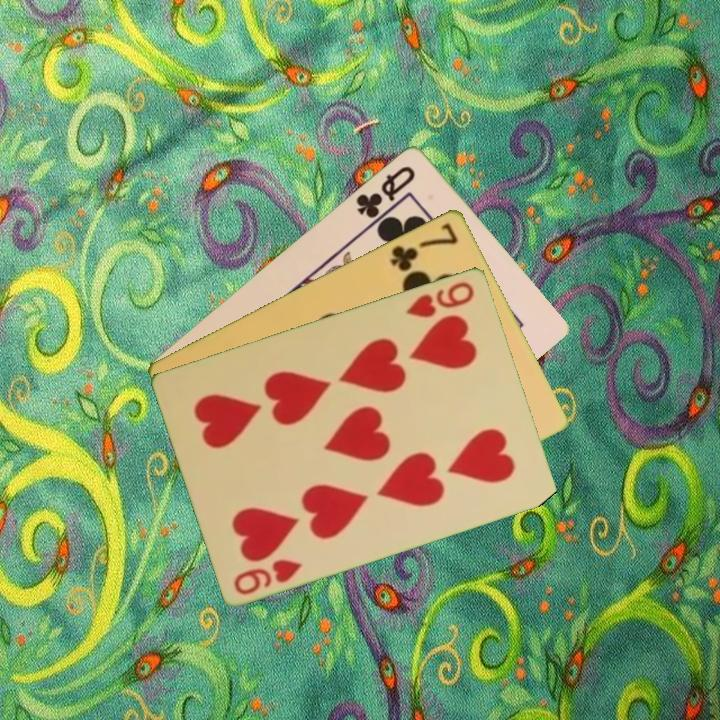7c: (386, 218, 462, 274)
9h: (402, 277, 478, 320), (230, 555, 306, 598)
Qc: (352, 161, 419, 221)
